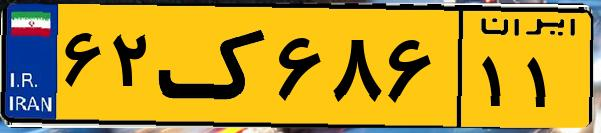1: (475, 38, 525, 113), (525, 38, 570, 115)
2: (110, 28, 158, 98)
6: (270, 28, 330, 110), (385, 28, 445, 110), (57, 26, 110, 100)
8: (330, 28, 385, 110)
ک: (158, 12, 270, 120)
